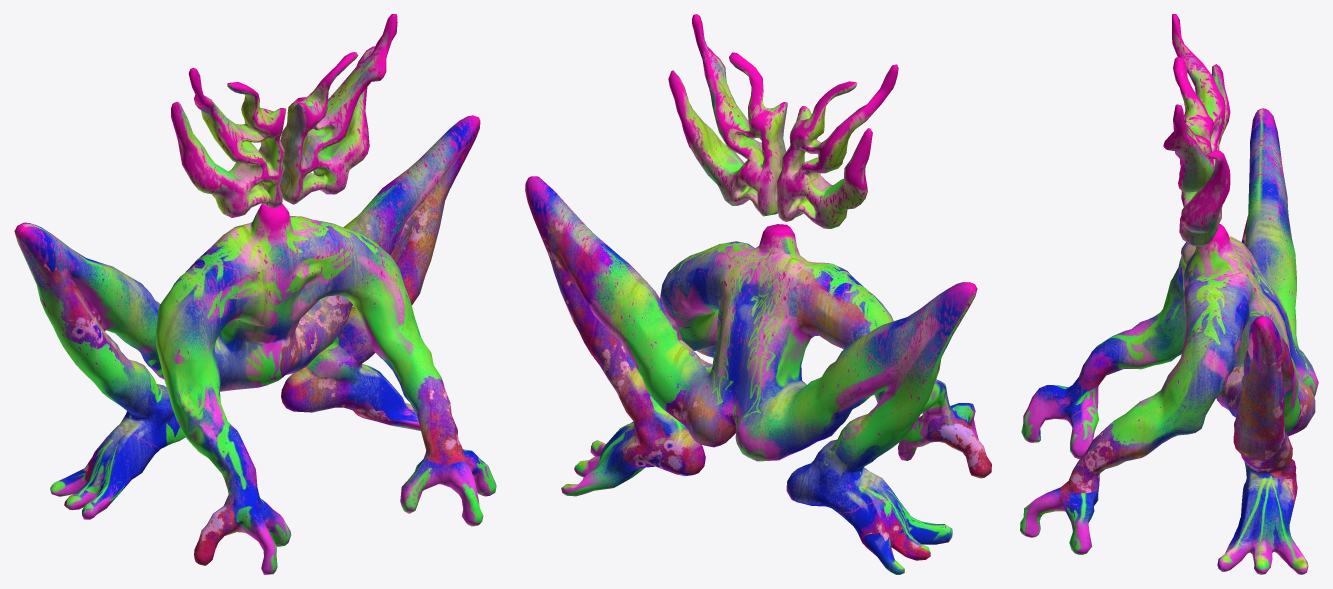
Rendered from shr-frog.glb.
3 views of the same model, side by side, from view 1: azimuth 30°, elevation 25°; view 2: azimuth 150°, elevation 25°; view 3: azimuth 270°, elevation 25° (orthographic). The views are drawn at different scales.
Visible parts, largest first — view 1: geometry_0; view 2: geometry_0; view 3: geometry_0.
Part boxes in pixels (box(x1,y1,x2,y2)): geometry_0: box(14, 14, 496, 574); geometry_0: box(525, 14, 991, 574); geometry_0: box(1020, 14, 1318, 574).
Bounding box in the file's own units: 1 × 0.9561 × 0.5888.
Materials: 1 (1 with a texture image).
